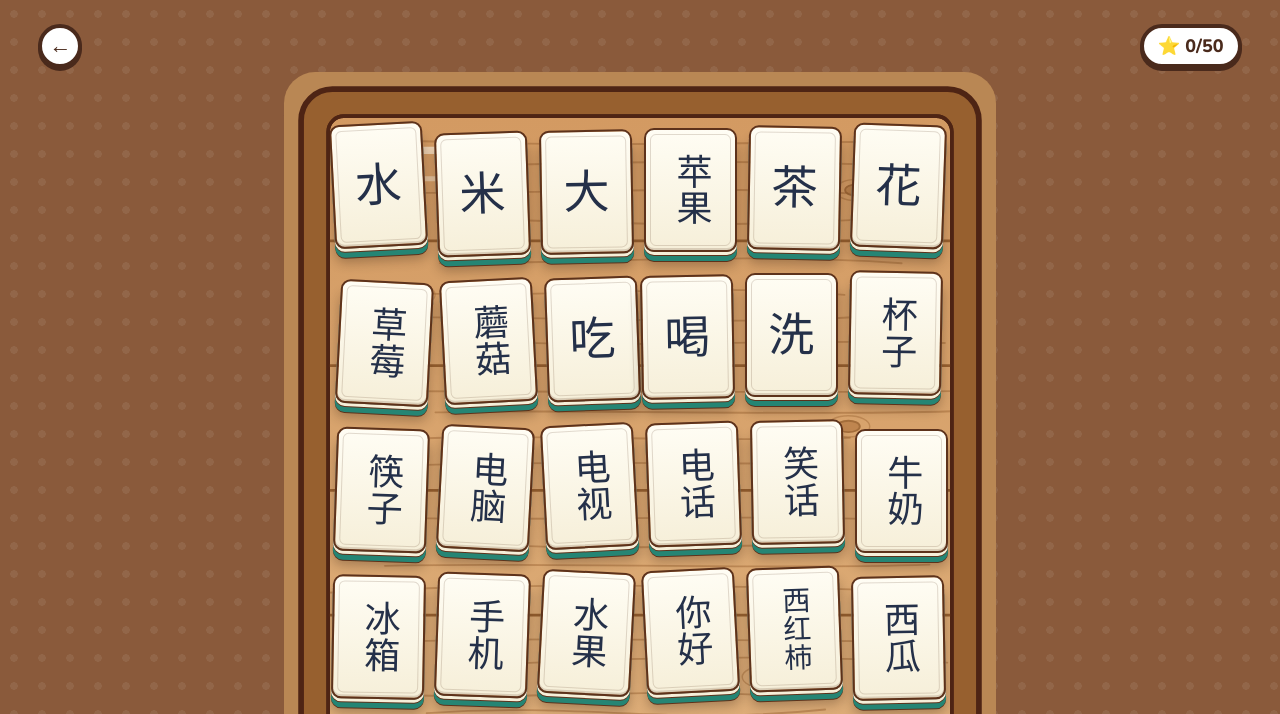
Mesa vista desde arriba › tocar 西红柿 abre su ficha, avisa y dice la toma lenta y luego la natural
Click the button "西红柿" at (794, 629), box top-left (746, 565), bottom-right (843, 692)
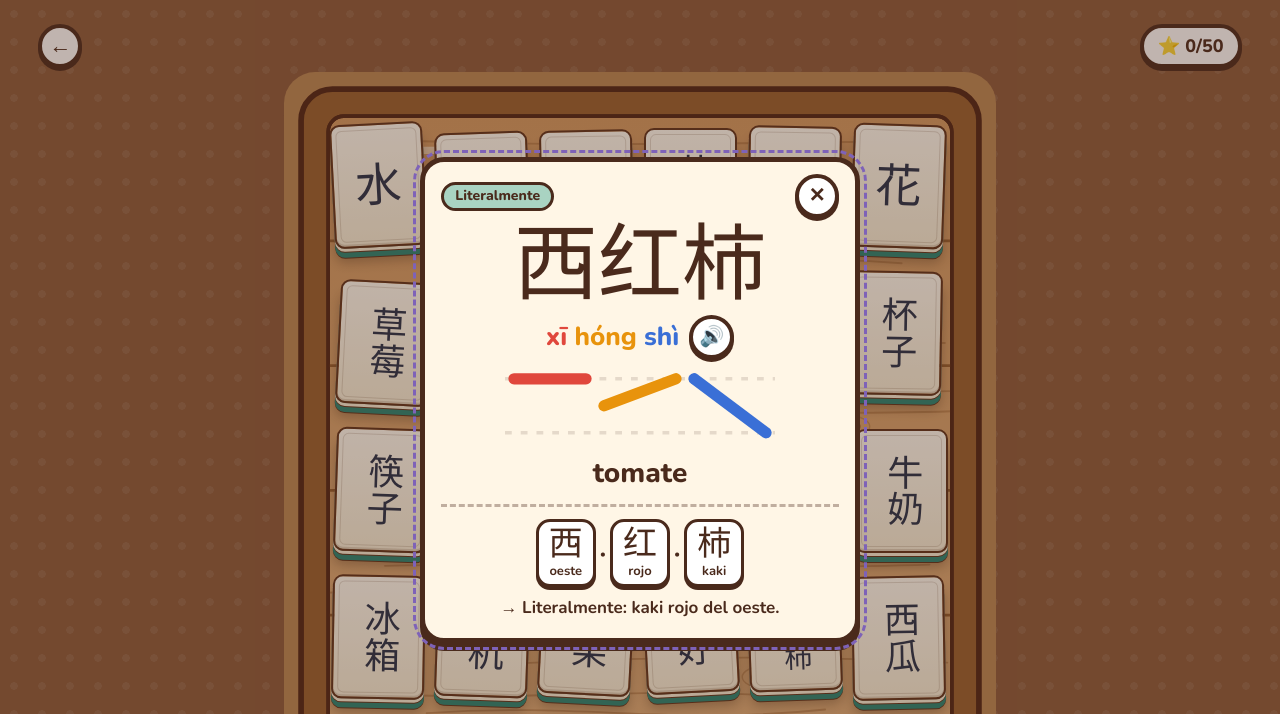
Now the dialog "西红柿" is shown, box top-left (420, 157), bottom-right (860, 642)
